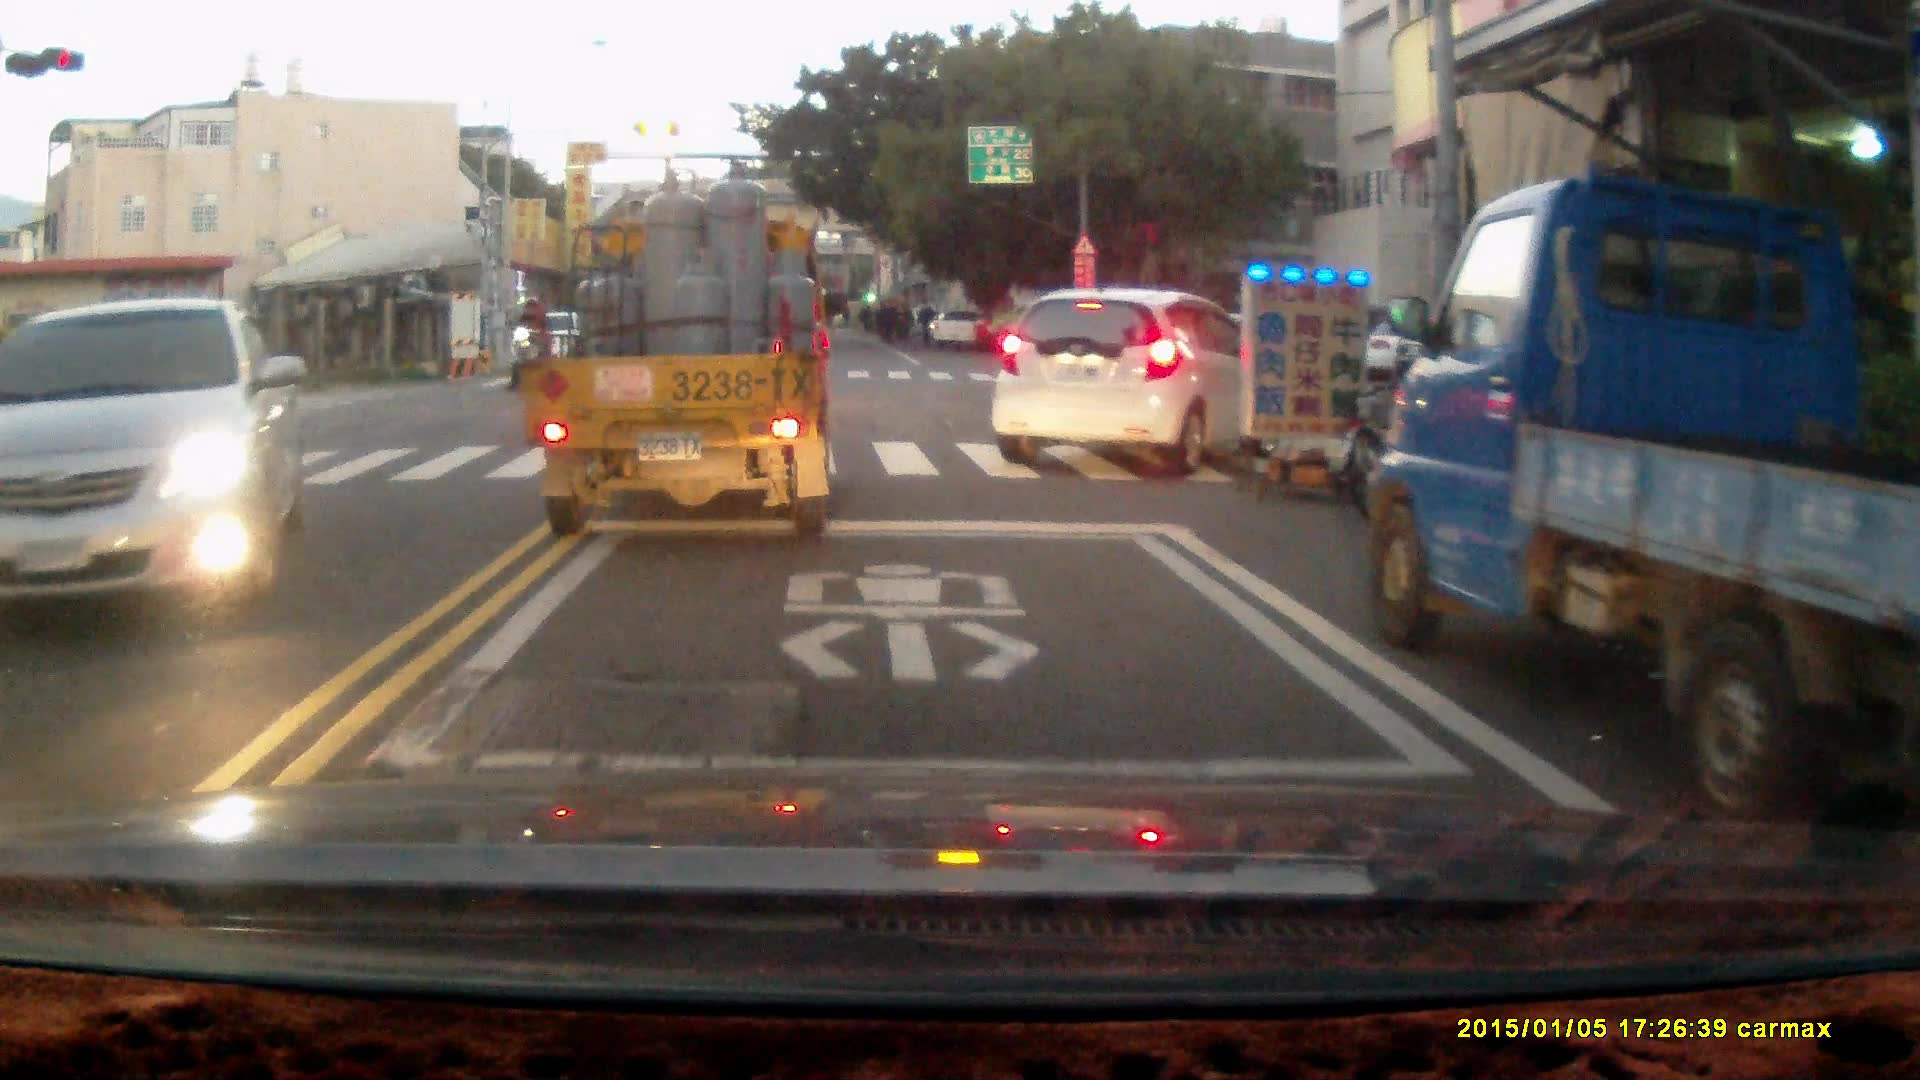rider: (504, 298, 553, 393)
vehicle: (1358, 180, 1920, 810), (511, 164, 834, 540), (1, 295, 309, 620), (989, 287, 1259, 470)
